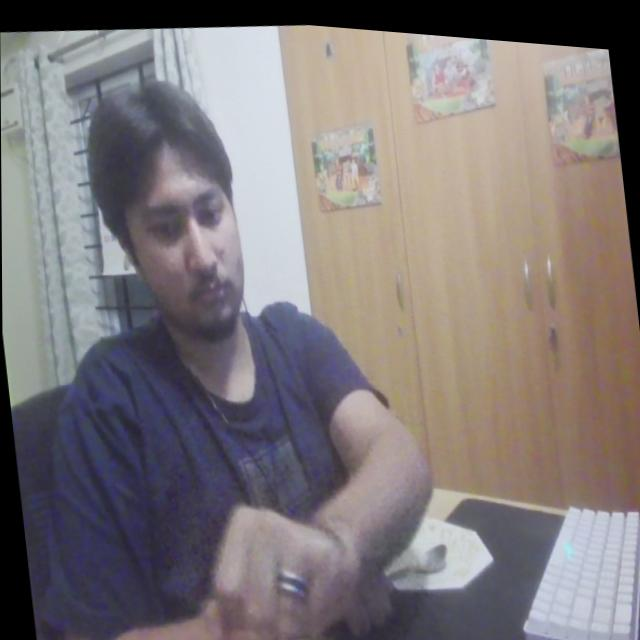yes: (181, 469, 371, 640)
